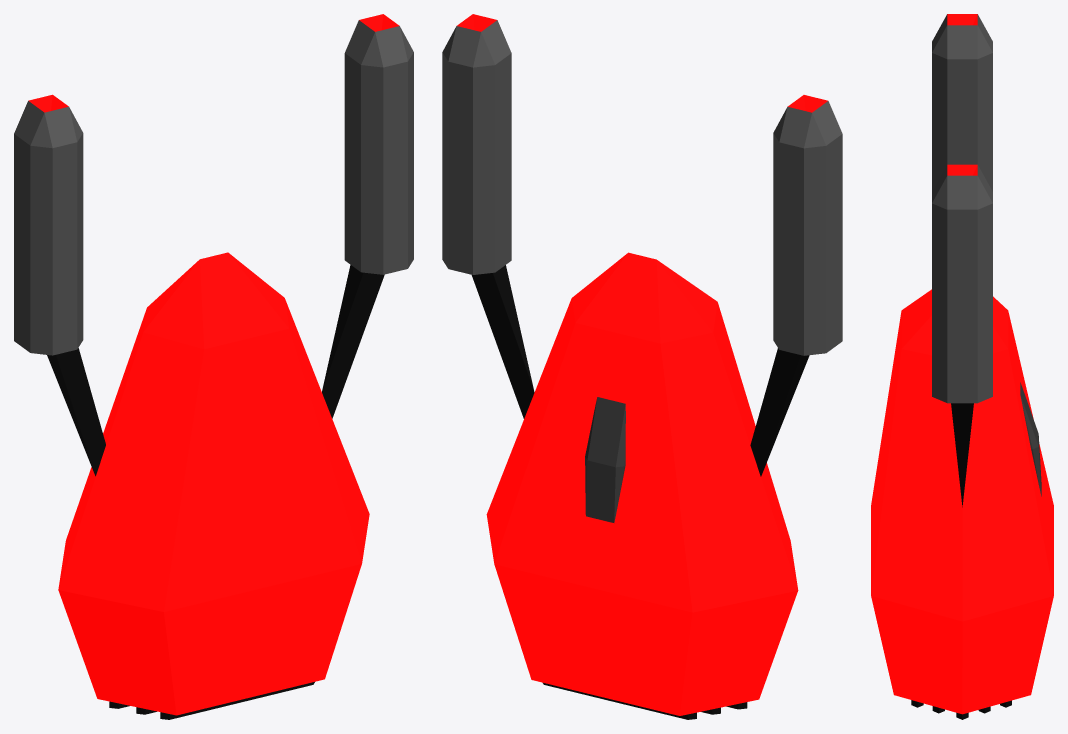
File: ennemi 1.fbx
3 renders of one model, left to right at view 1: azimuth 30°, elevation 25°; view 2: azimuth 150°, elevation 25°; view 3: azimuth 270°, elevation 25°, orthographic. The views are drawn at different scales.
Visible parts, largest first — view 1: Cube; view 2: Cube; view 3: Cube.
Part boxes in pixels (x1,y1,x2,y2): Cube: [14, 14, 413, 719]; Cube: [442, 14, 842, 719]; Cube: [871, 14, 1053, 719].
Size of the model in its own units: 339 by 523 by 150.
